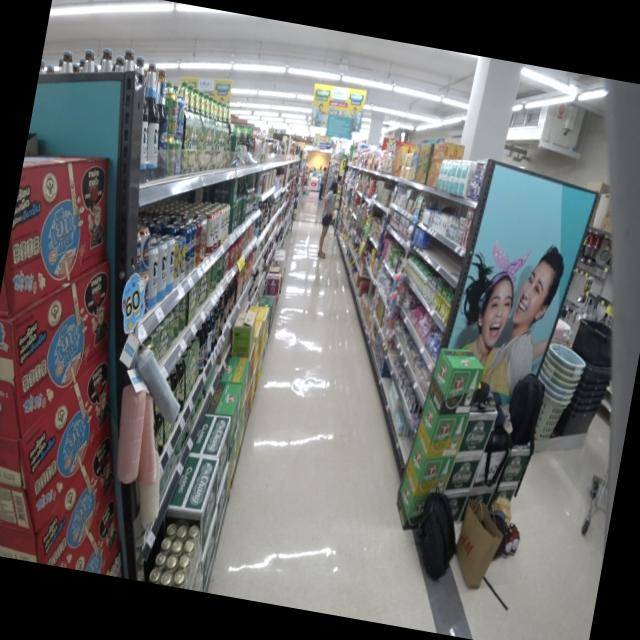shoplifting: (312, 182, 338, 260)
